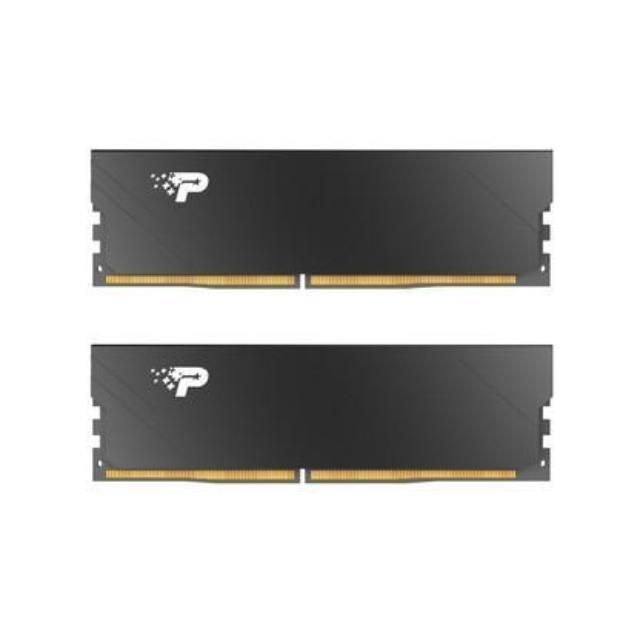RAM: (82, 336, 554, 494), (85, 143, 560, 294)
